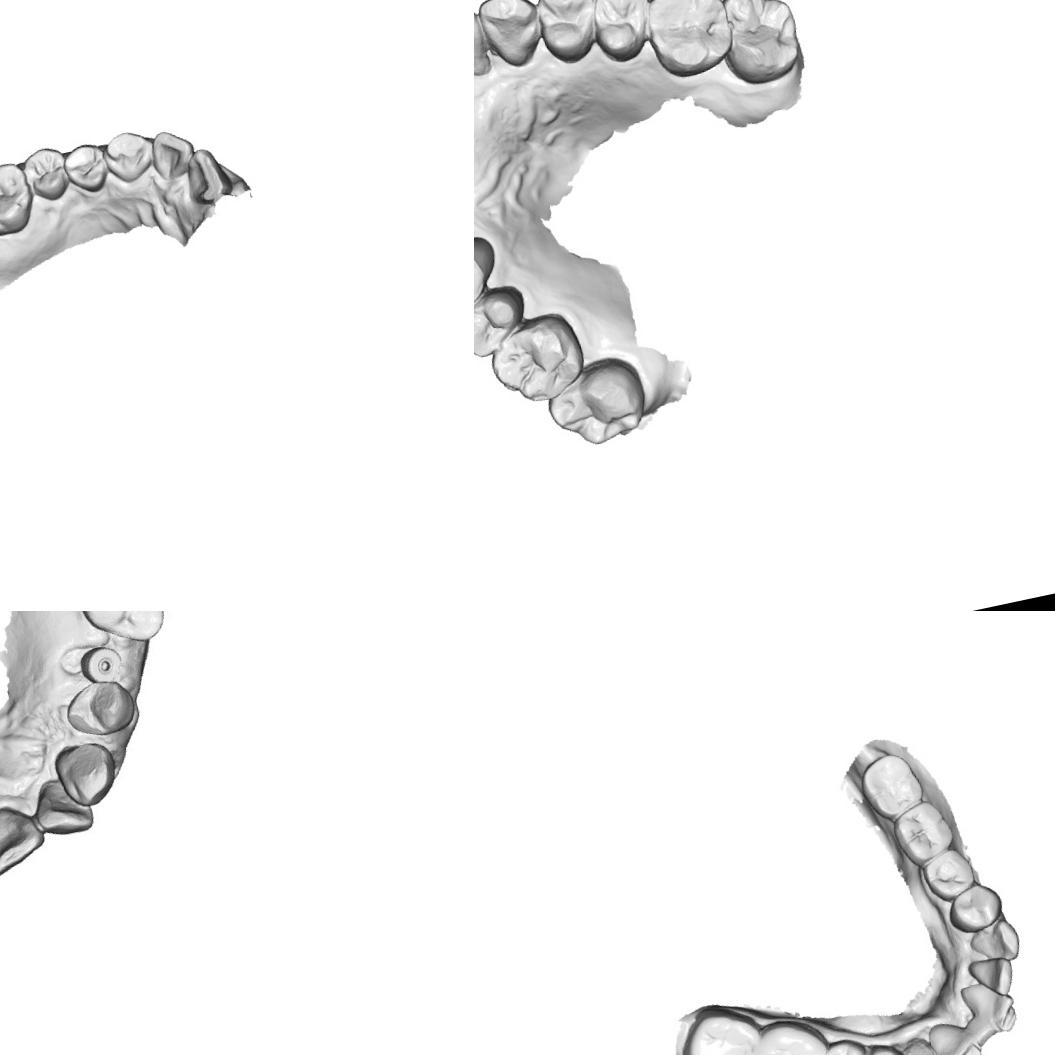canine: (475, 0, 547, 72), (53, 739, 118, 802), (98, 124, 161, 188), (964, 915, 1024, 968), (894, 1030, 952, 1055)
implant: (82, 642, 126, 690)
incisor: (29, 770, 98, 844), (956, 974, 1020, 1041), (0, 799, 53, 879), (178, 143, 236, 209), (145, 125, 200, 184), (964, 951, 1018, 1002), (923, 1013, 987, 1055), (474, 2, 494, 86)
molar: (540, 352, 654, 454), (482, 310, 588, 414), (636, 0, 738, 84), (711, 0, 807, 89), (854, 746, 928, 826), (669, 999, 768, 1055), (887, 795, 959, 871), (67, 611, 180, 655), (742, 1011, 839, 1055), (0, 157, 40, 243)
premolar: (57, 673, 142, 744), (529, 0, 606, 68), (582, 0, 659, 67), (474, 287, 529, 366), (942, 877, 1008, 940), (914, 844, 980, 906), (18, 142, 74, 207), (58, 138, 114, 198), (474, 232, 507, 324), (812, 1033, 876, 1055), (856, 1038, 913, 1055)
